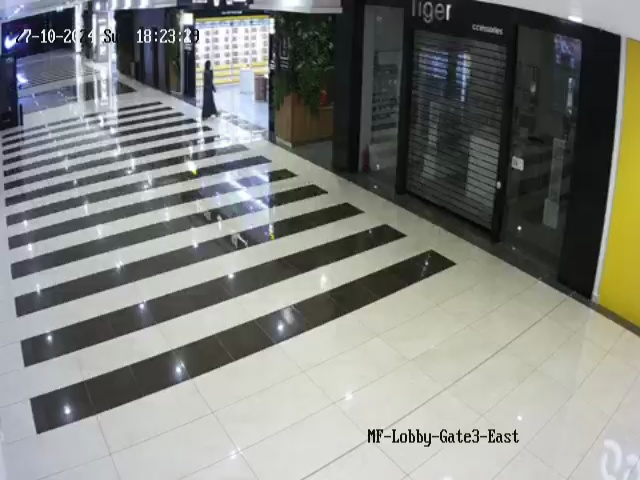female: (202, 60, 219, 120)
